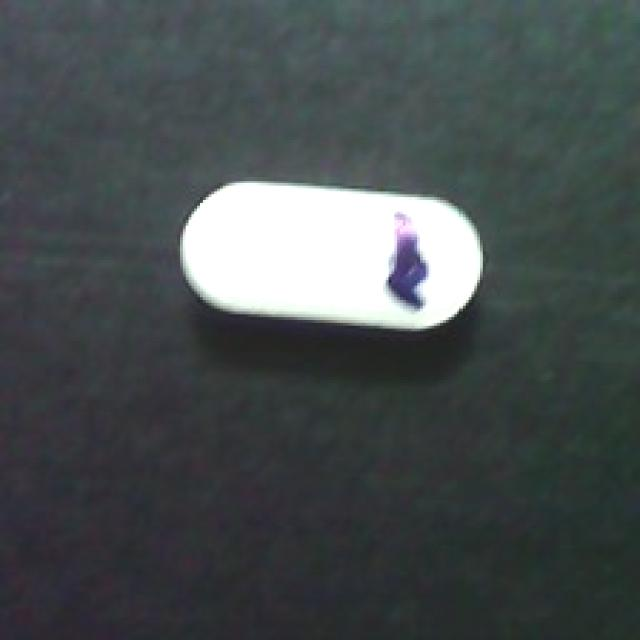defected: (174, 171, 491, 334)
